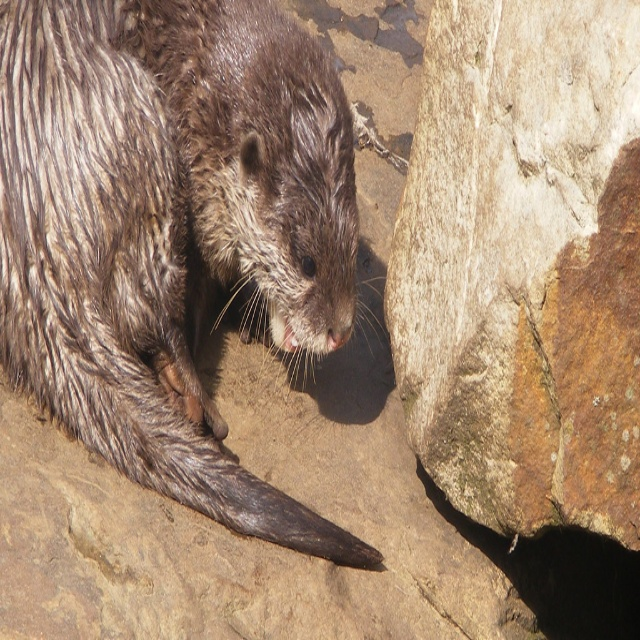Otter: (51, 9, 373, 577)
